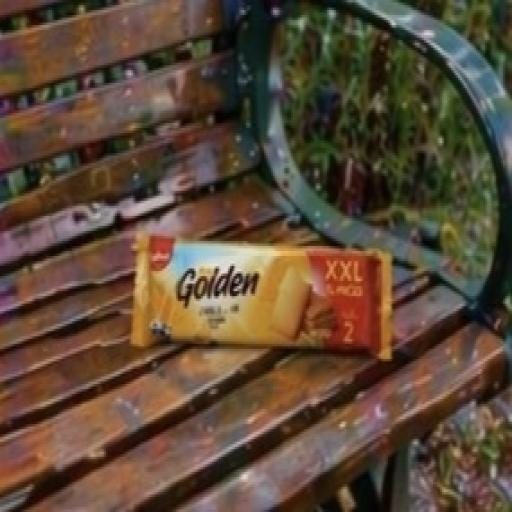golden: (103, 164, 420, 408)
